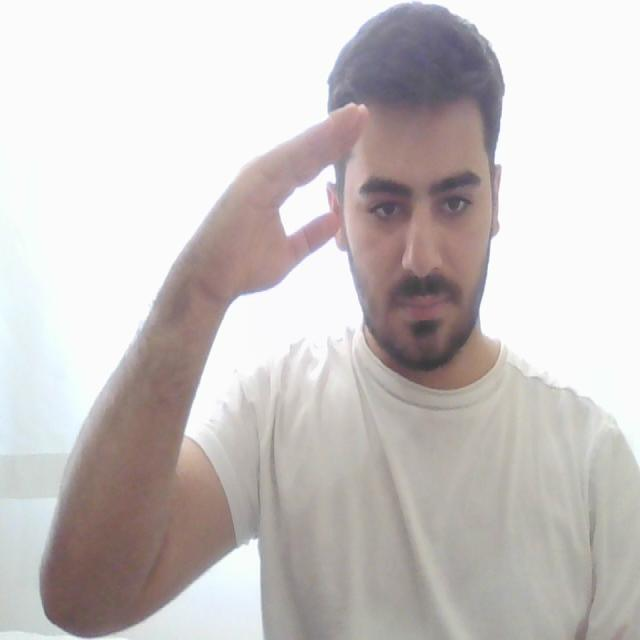Merhaba: (192, 67, 388, 327)
